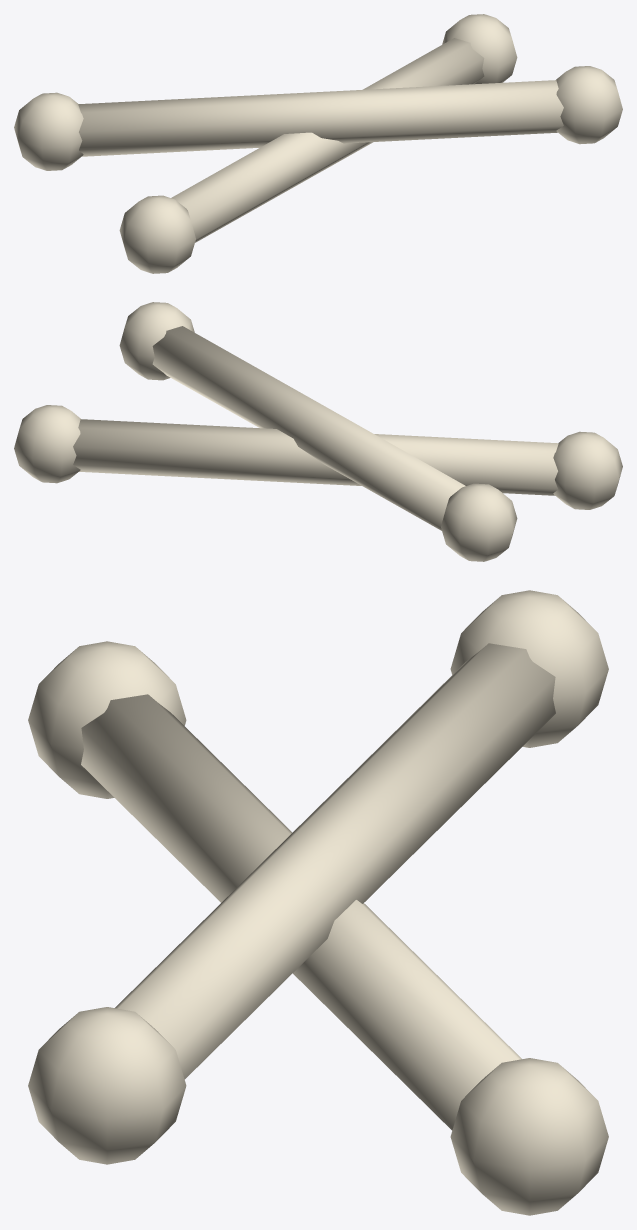
The model's file is bone_item_femur_crossed.glb.
3 renders of one model, top to bottom at view 1: azimuth 30°, elevation 25°; view 2: azimuth 150°, elevation 25°; view 3: azimuth 270°, elevation 25°, orthographic. The views are drawn at different scales.
Parts seen in each view (by area): view 1: GD_bone_item_femur_crossed__m0; view 2: GD_bone_item_femur_crossed__m0; view 3: GD_bone_item_femur_crossed__m0.
Boxes of the visible parts, bbox=[...] form: GD_bone_item_femur_crossed__m0: bbox=[14, 14, 622, 273]; GD_bone_item_femur_crossed__m0: bbox=[14, 302, 622, 561]; GD_bone_item_femur_crossed__m0: bbox=[28, 590, 608, 1215].
Size of the model in its own units: 0.325 by 0.061 by 0.165.
